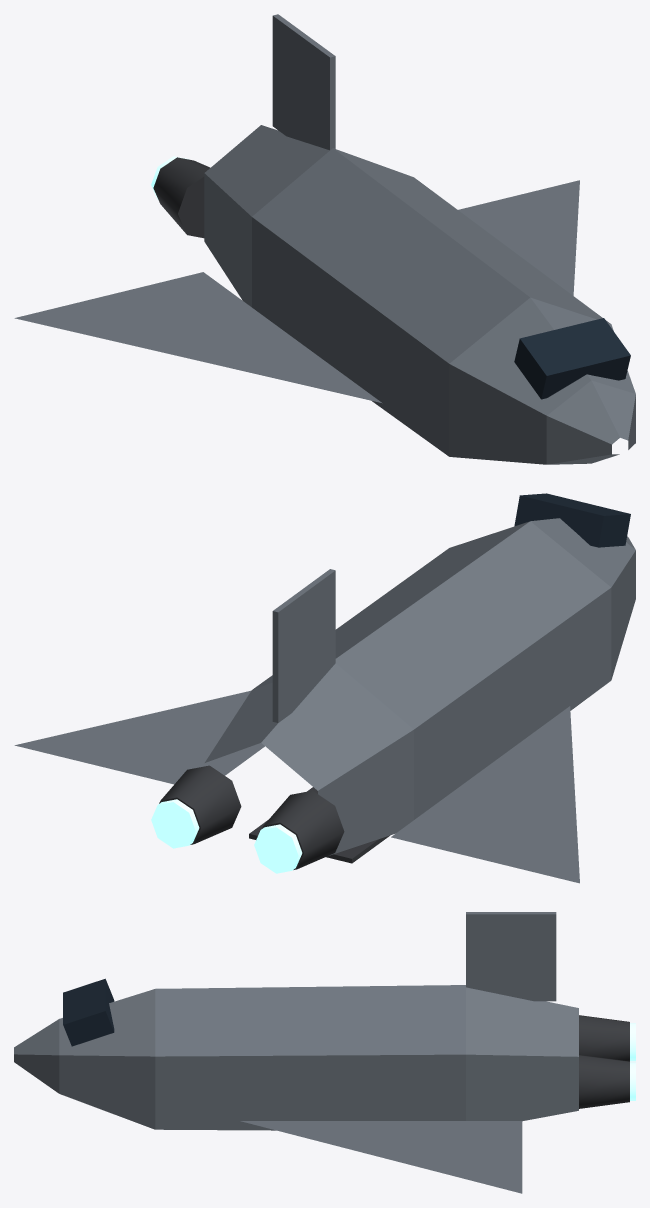
The model's file is space_ship_shuttle_mk3.glb.
3 renders of one model, top to bottom at view 1: azimuth 30°, elevation 25°; view 2: azimuth 150°, elevation 25°; view 3: azimuth 270°, elevation 25°, orthographic. The views are drawn at different scales.
Parts seen in each view (by area): view 1: body, engine_1; view 2: body, engine_1, engine_0, ramp; view 3: body, engine_0, engine_1.
Part boxes in pixels (x1,y1,x2,y2): body: [14, 14, 635, 464]; engine_1: [151, 156, 210, 238]; body: [14, 493, 635, 883]; engine_1: [254, 790, 344, 873]; engine_0: [151, 765, 241, 848]; ramp: [249, 787, 389, 863]; body: [14, 912, 578, 1193]; engine_0: [579, 1054, 635, 1108]; engine_1: [579, 1015, 635, 1061].
Size of what is drawn, in the model's own units: 10.16 by 4.42 by 12.29.
